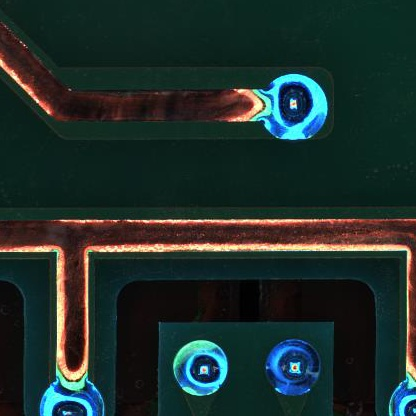spot: (261, 71, 330, 143), (264, 339, 323, 397), (171, 340, 228, 395), (38, 378, 103, 416)
